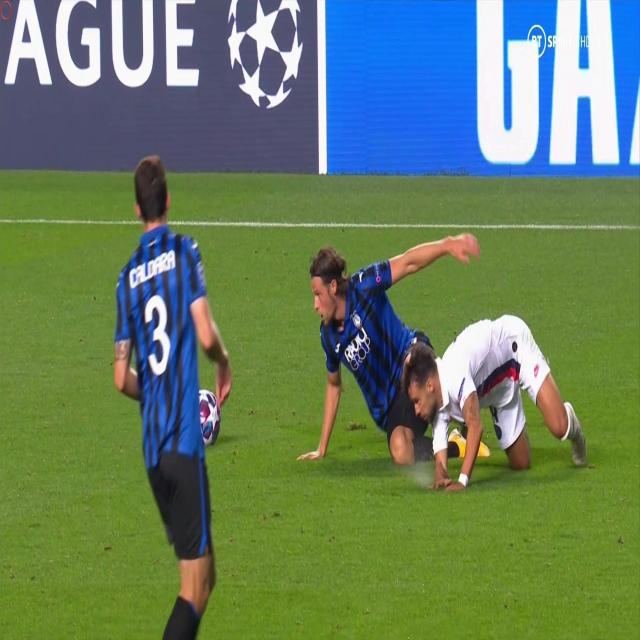ball: (196, 385, 222, 448)
player: (99, 131, 240, 640), (290, 217, 480, 483), (384, 278, 586, 494)
